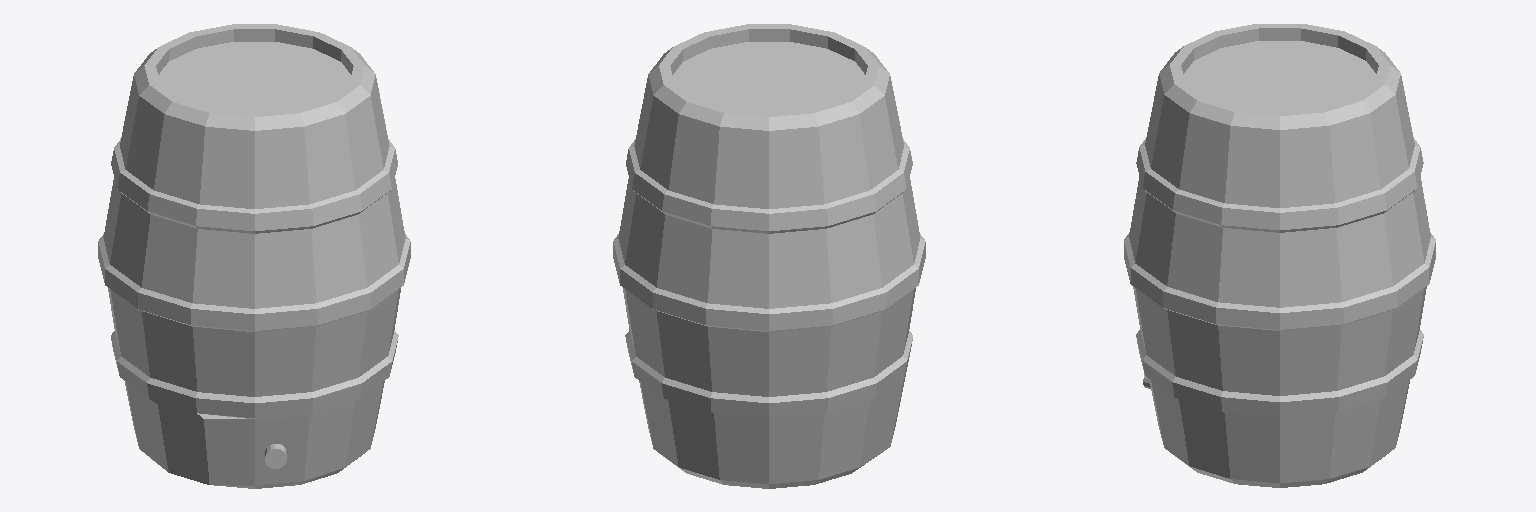
The model's file is BarrellObjO.obj.
3 views of the same model, side by side, from view 1: azimuth 30°, elevation 25°; view 2: azimuth 150°, elevation 25°; view 3: azimuth 270°, elevation 25° (orthographic).
Parts seen in each view (by area): view 1: polySurface1 pCylinder3; view 2: polySurface1 pCylinder3; view 3: polySurface1 pCylinder3.
Boxes of the visible parts, <box> form: polySurface1 pCylinder3: <box>98,24,410,488</box>; polySurface1 pCylinder3: <box>613,24,925,488</box>; polySurface1 pCylinder3: <box>1124,24,1435,487</box>.
Bounding box in the file's own units: 82.53 × 109 × 82.98.